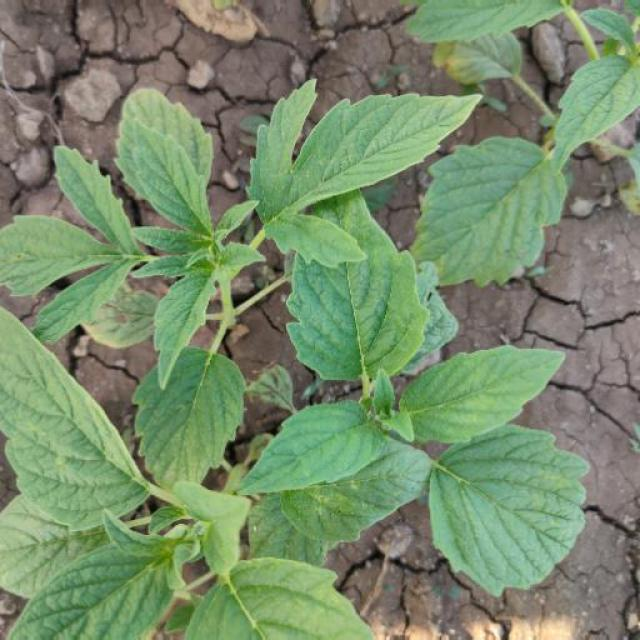crop: (1, 85, 639, 640)
